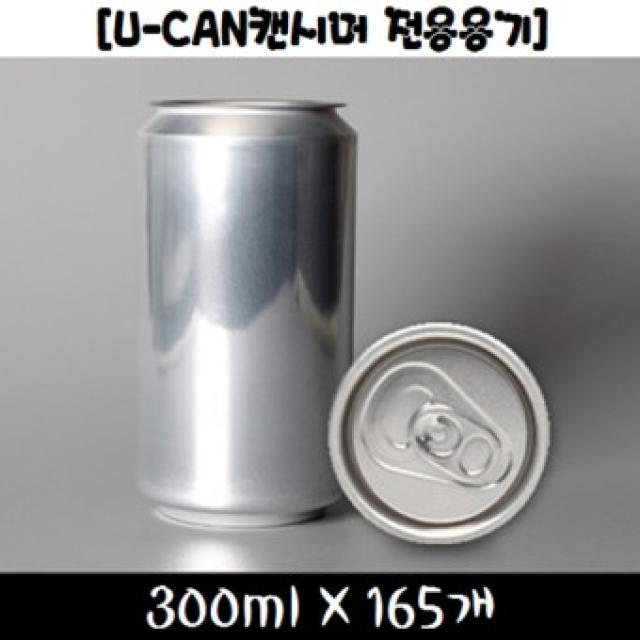can: (138, 97, 359, 536)
